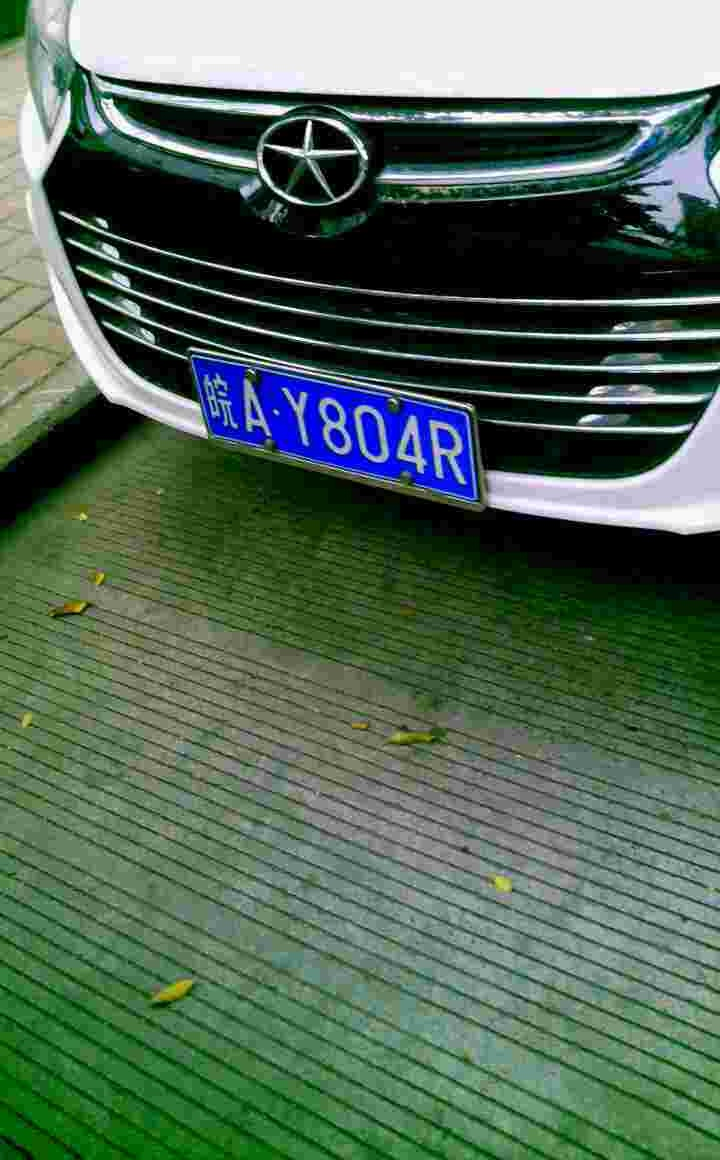license_plate: (187, 348, 488, 490)
